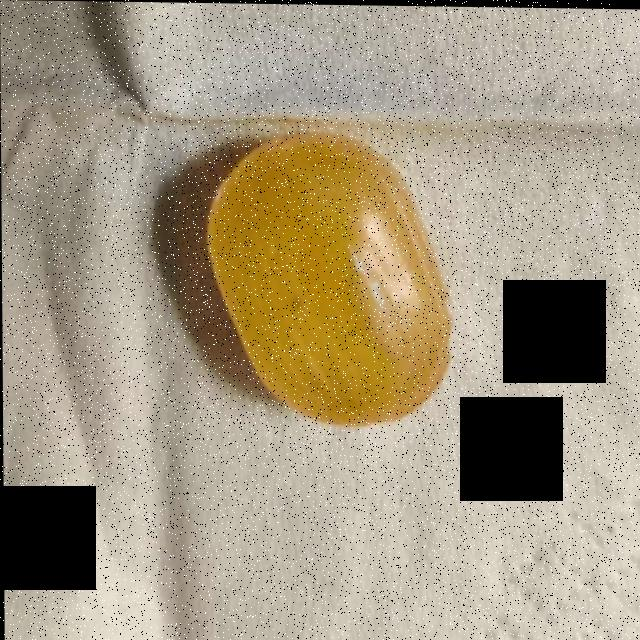sweets-candies: (206, 134, 451, 423)
